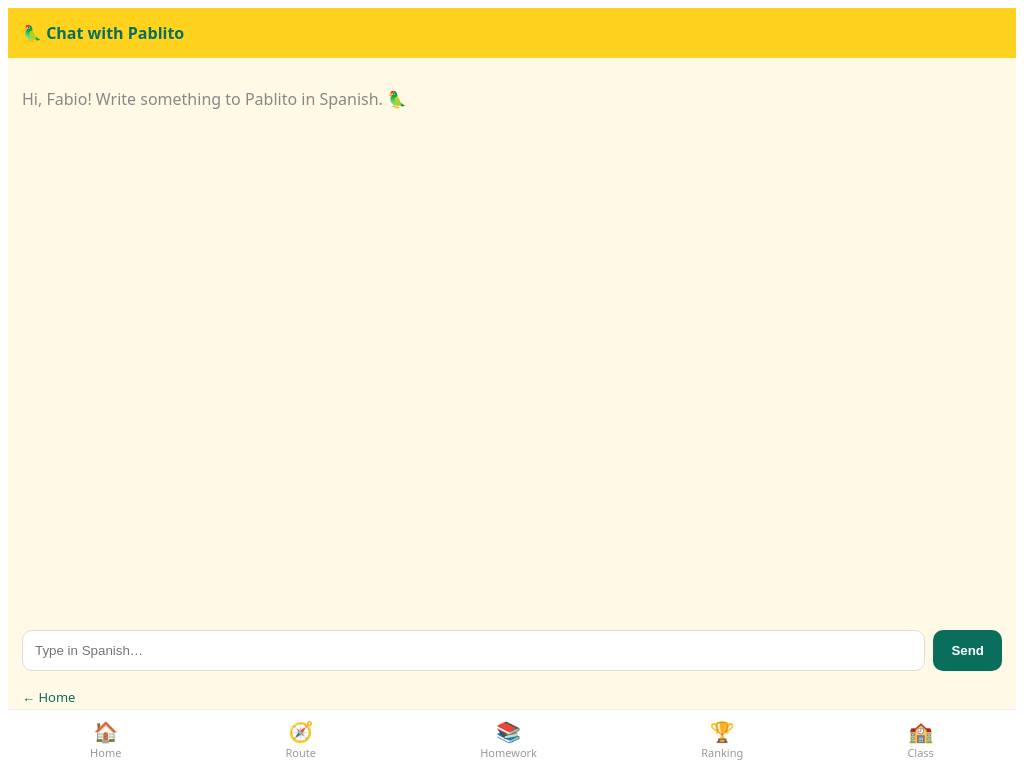
Test: sending a message renders Pablito's reply
Type "hola" into the field named "Message for Pablito" at [474, 650], box [22,630,925,671]
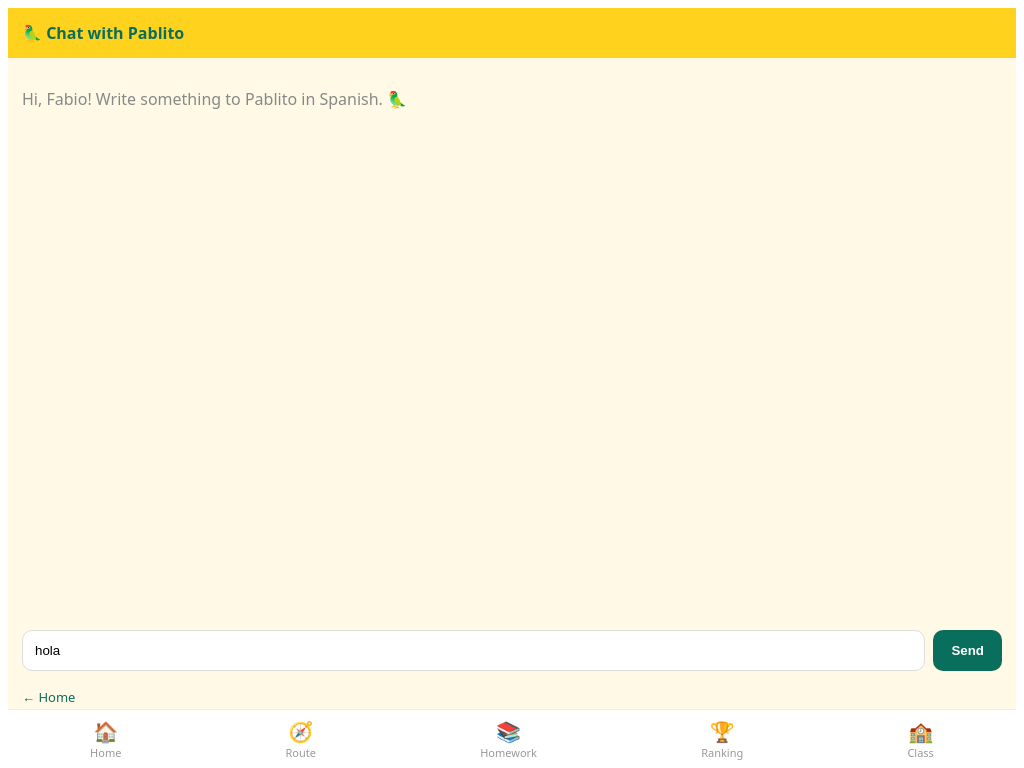
Click the button "Send" at [968, 650], box [933,630,1002,671]
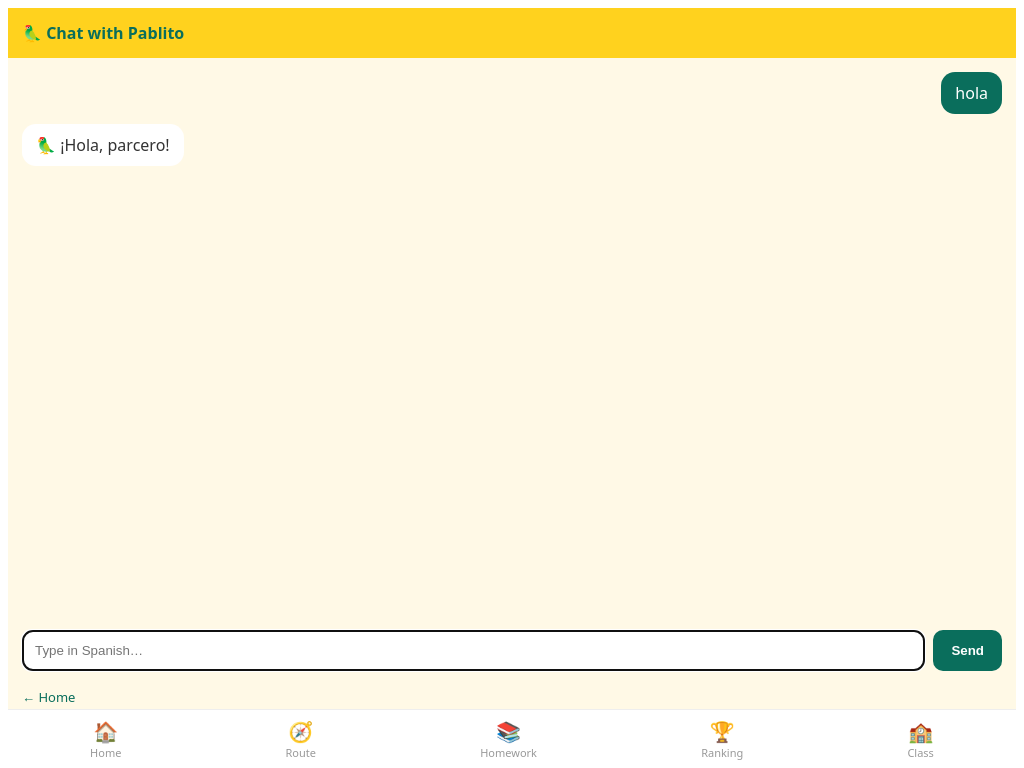
Result: the text "🦜 ¡Hola, parcero!" is shown at [22,124,184,166]
